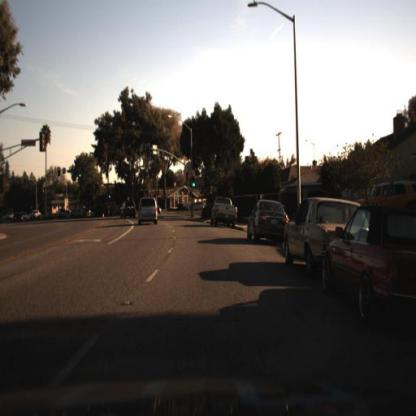car: (323, 204, 416, 325), (284, 191, 328, 285), (240, 194, 287, 250), (243, 209, 290, 244), (208, 192, 243, 232), (116, 194, 135, 225), (139, 198, 158, 228), (120, 202, 140, 223), (61, 205, 76, 220)
trafficLight-Green: (191, 177, 199, 193), (107, 189, 113, 206), (77, 167, 84, 181), (77, 169, 83, 185), (192, 178, 197, 190)
trafficLight-Red: (57, 162, 65, 183)
trafficLight-RedLeft: (57, 165, 64, 181)
